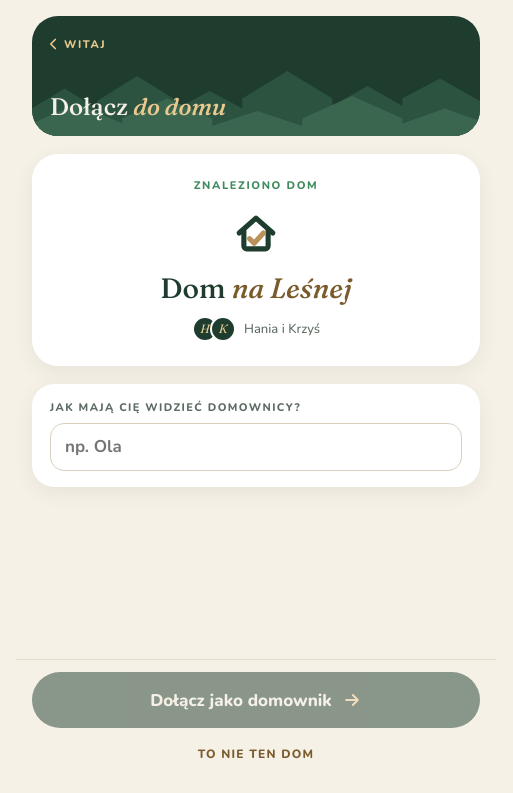
Scenario: link z zaproszenia (?kod=) od razu pokazuje dom; „To nie ten dom” wraca
This screenshot has width=513, height=793.
expect the text "ZNALEZIONO DOM" is shown: met, box [194, 178, 318, 193]
Click the button "TO NIE TEN DOM". click: point(256, 754)
box: [32, 732, 480, 776]
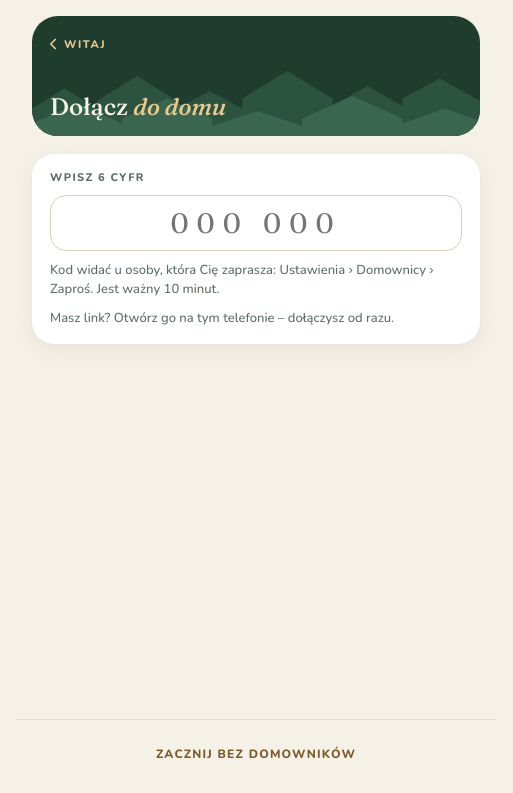
expect the field labelled "WPISZ 6 CYFR" is shown: met, box [50, 195, 462, 251]
